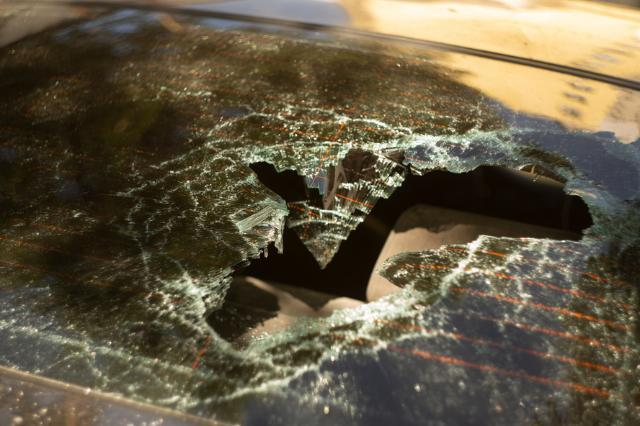Windshield: (86, 64, 578, 403)
